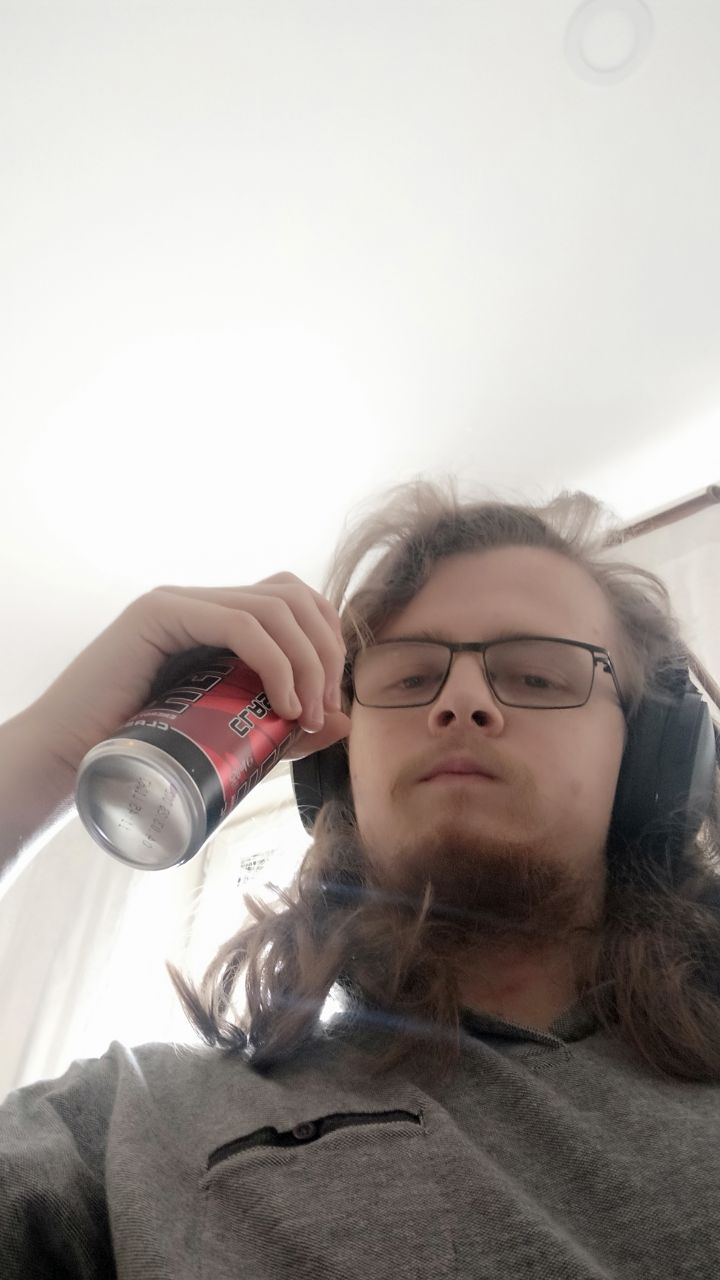Can: (75, 645, 303, 872)
